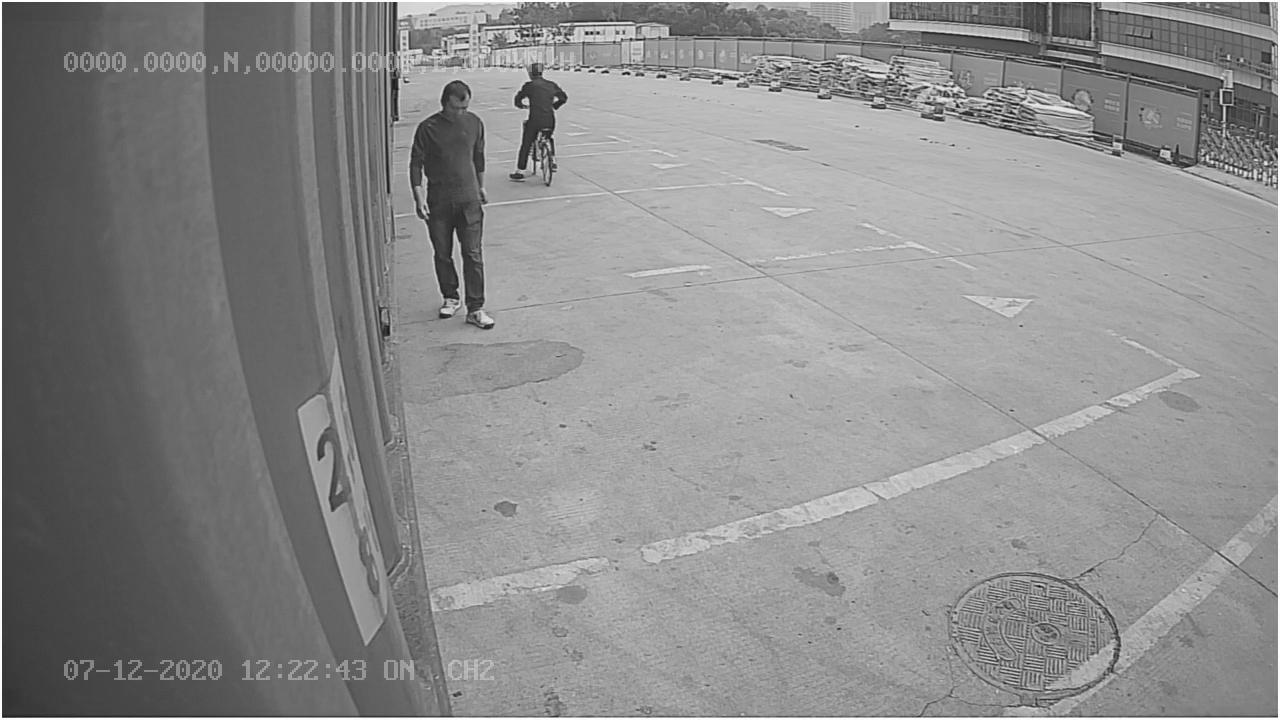person: (405, 78, 503, 332)
